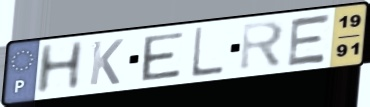E: (284, 12, 334, 69), (140, 30, 186, 83)
H: (32, 38, 87, 97)
K: (86, 37, 126, 88)
L: (189, 25, 226, 80)
R: (237, 18, 288, 74)
